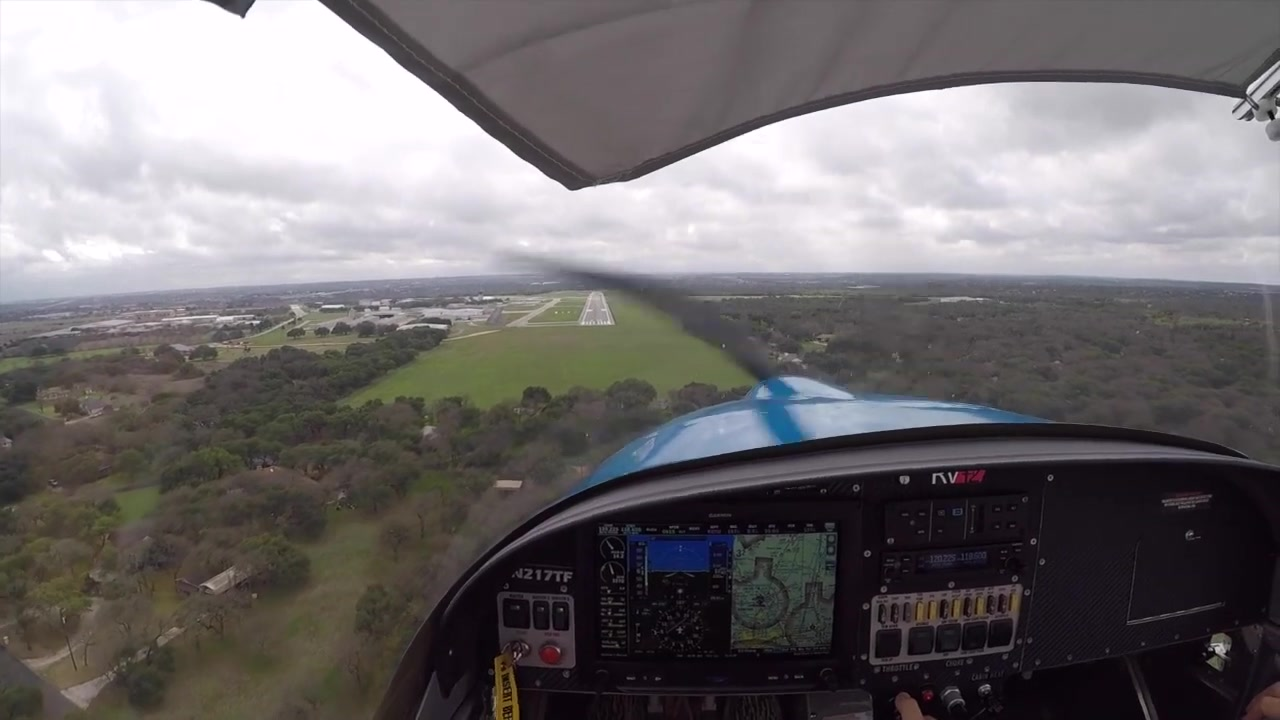entrance: (581, 320, 610, 326)
runway: (579, 291, 614, 328)
